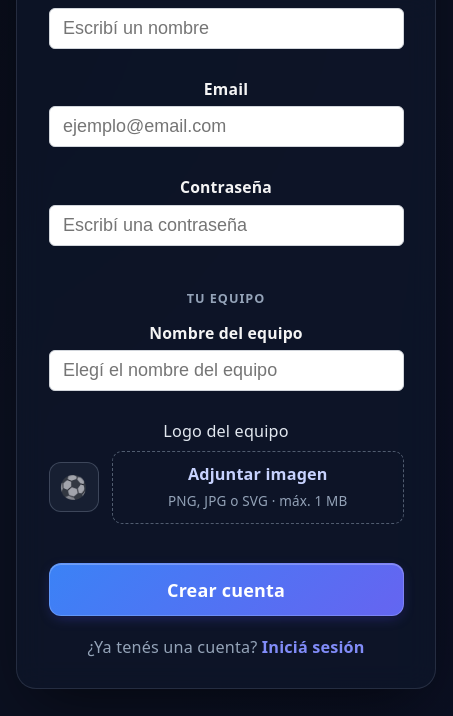
Scenario: RegisterPage › Validaciones del frontend › Con campos vacíos muestra los errores y no llama al backend
The width and height of the screenshot is (453, 716).
(page scrolled)
Click the button "Crear cuenta": (226, 590) [48, 563, 404, 616]
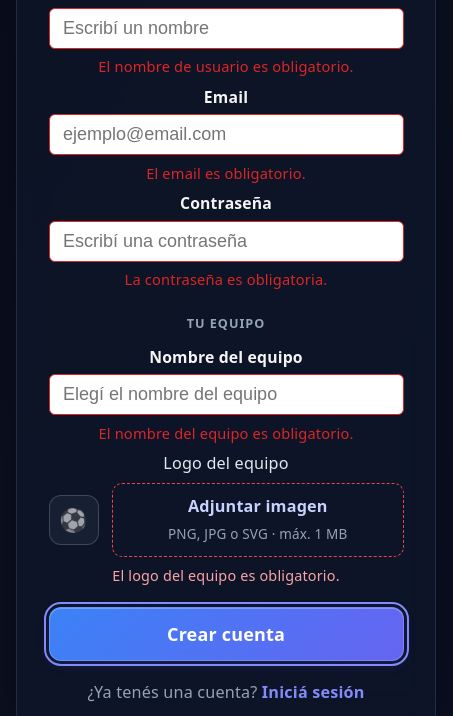
Now the text "El nombre de usuario es obligatorio." is shown, box [98, 56, 354, 76]
Now the text "El email es obligatorio." is shown, box [146, 163, 306, 183]
Now the text "La contraseña es obligatoria." is shown, box [125, 269, 327, 289]
